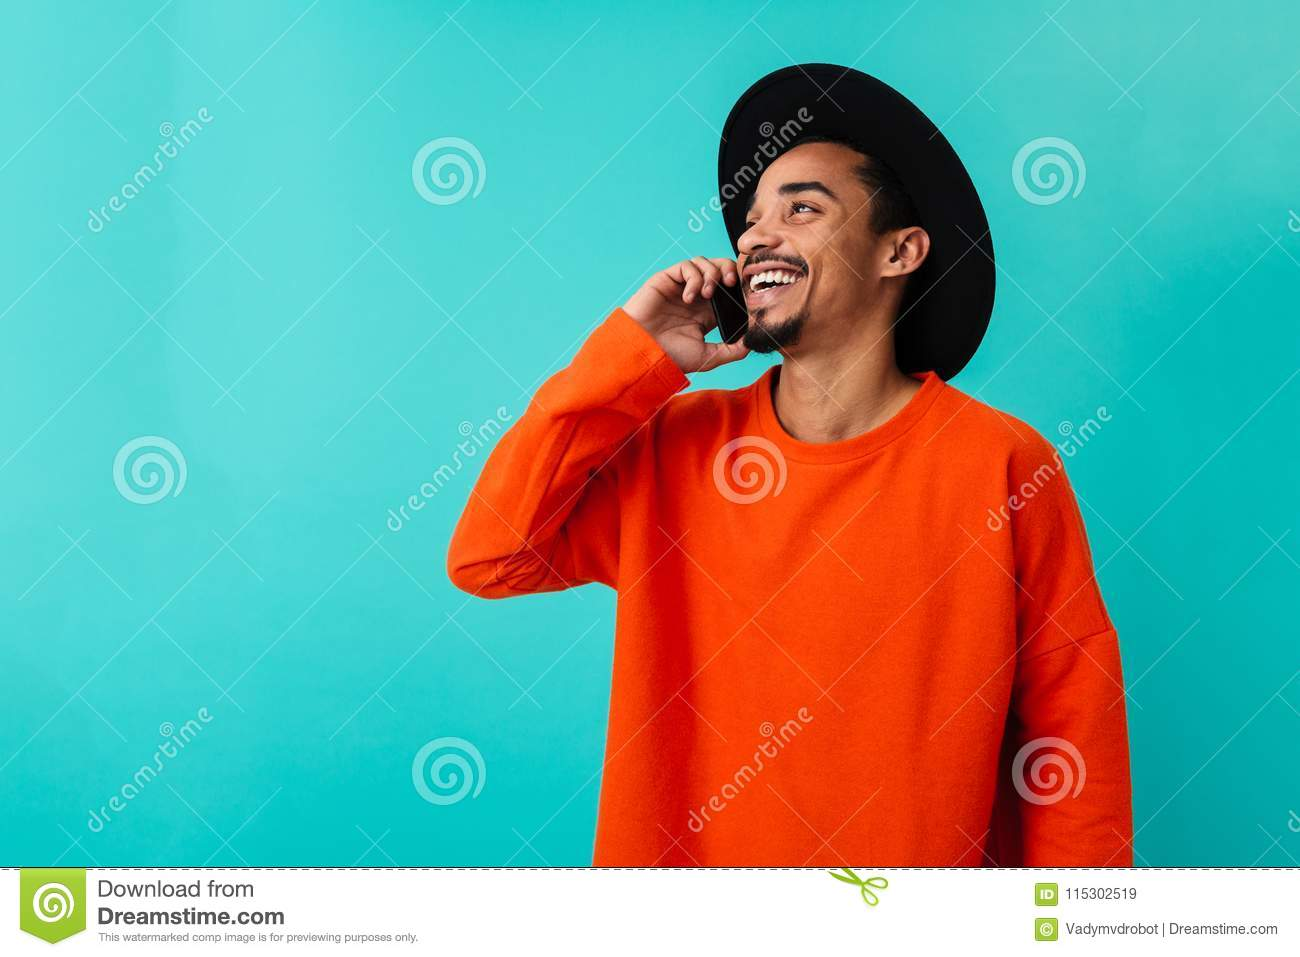phone: (711, 270, 747, 344)
talk: (623, 174, 850, 380)
